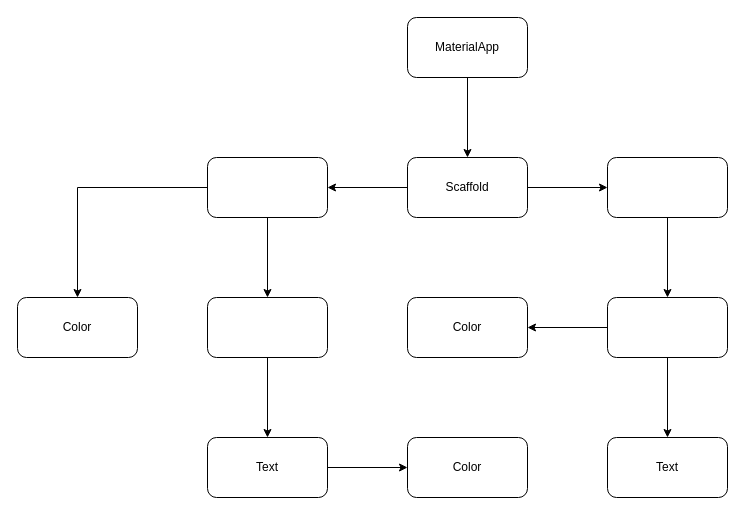
This 745x515 diagram has some shape labels left out. Each missing label, with the centre of its shape:
"AppBar" goes at point (267, 187).
"body" goes at point (667, 187).
"Container" goes at point (667, 327).
"title" goes at point (267, 327).
